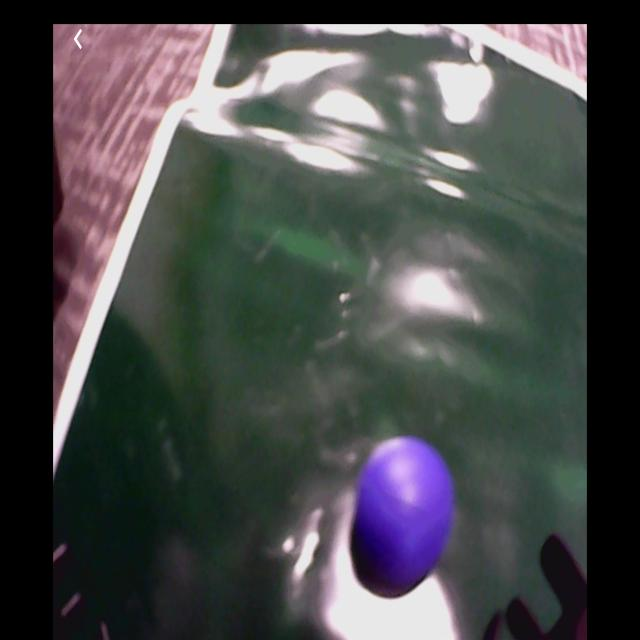ball: (355, 437, 453, 585)
